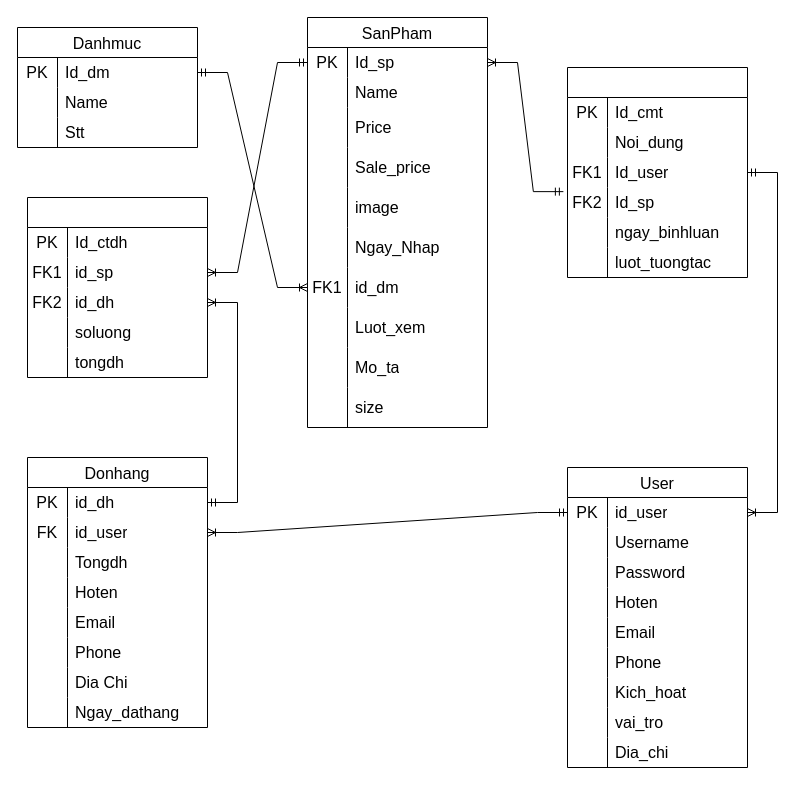
Image size: 804x785. Some labels were removed from this diagram. Each missing label, with the box of its shape:
Comment: (566, 66, 748, 278)
Donghangchitiet: (26, 196, 208, 378)
